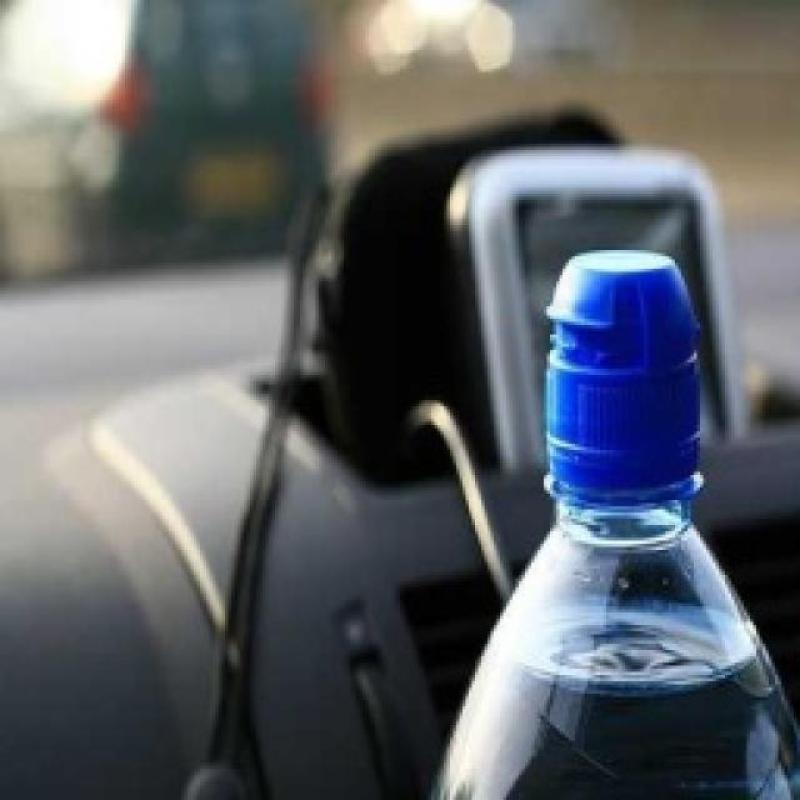botella: (427, 250, 800, 800)
